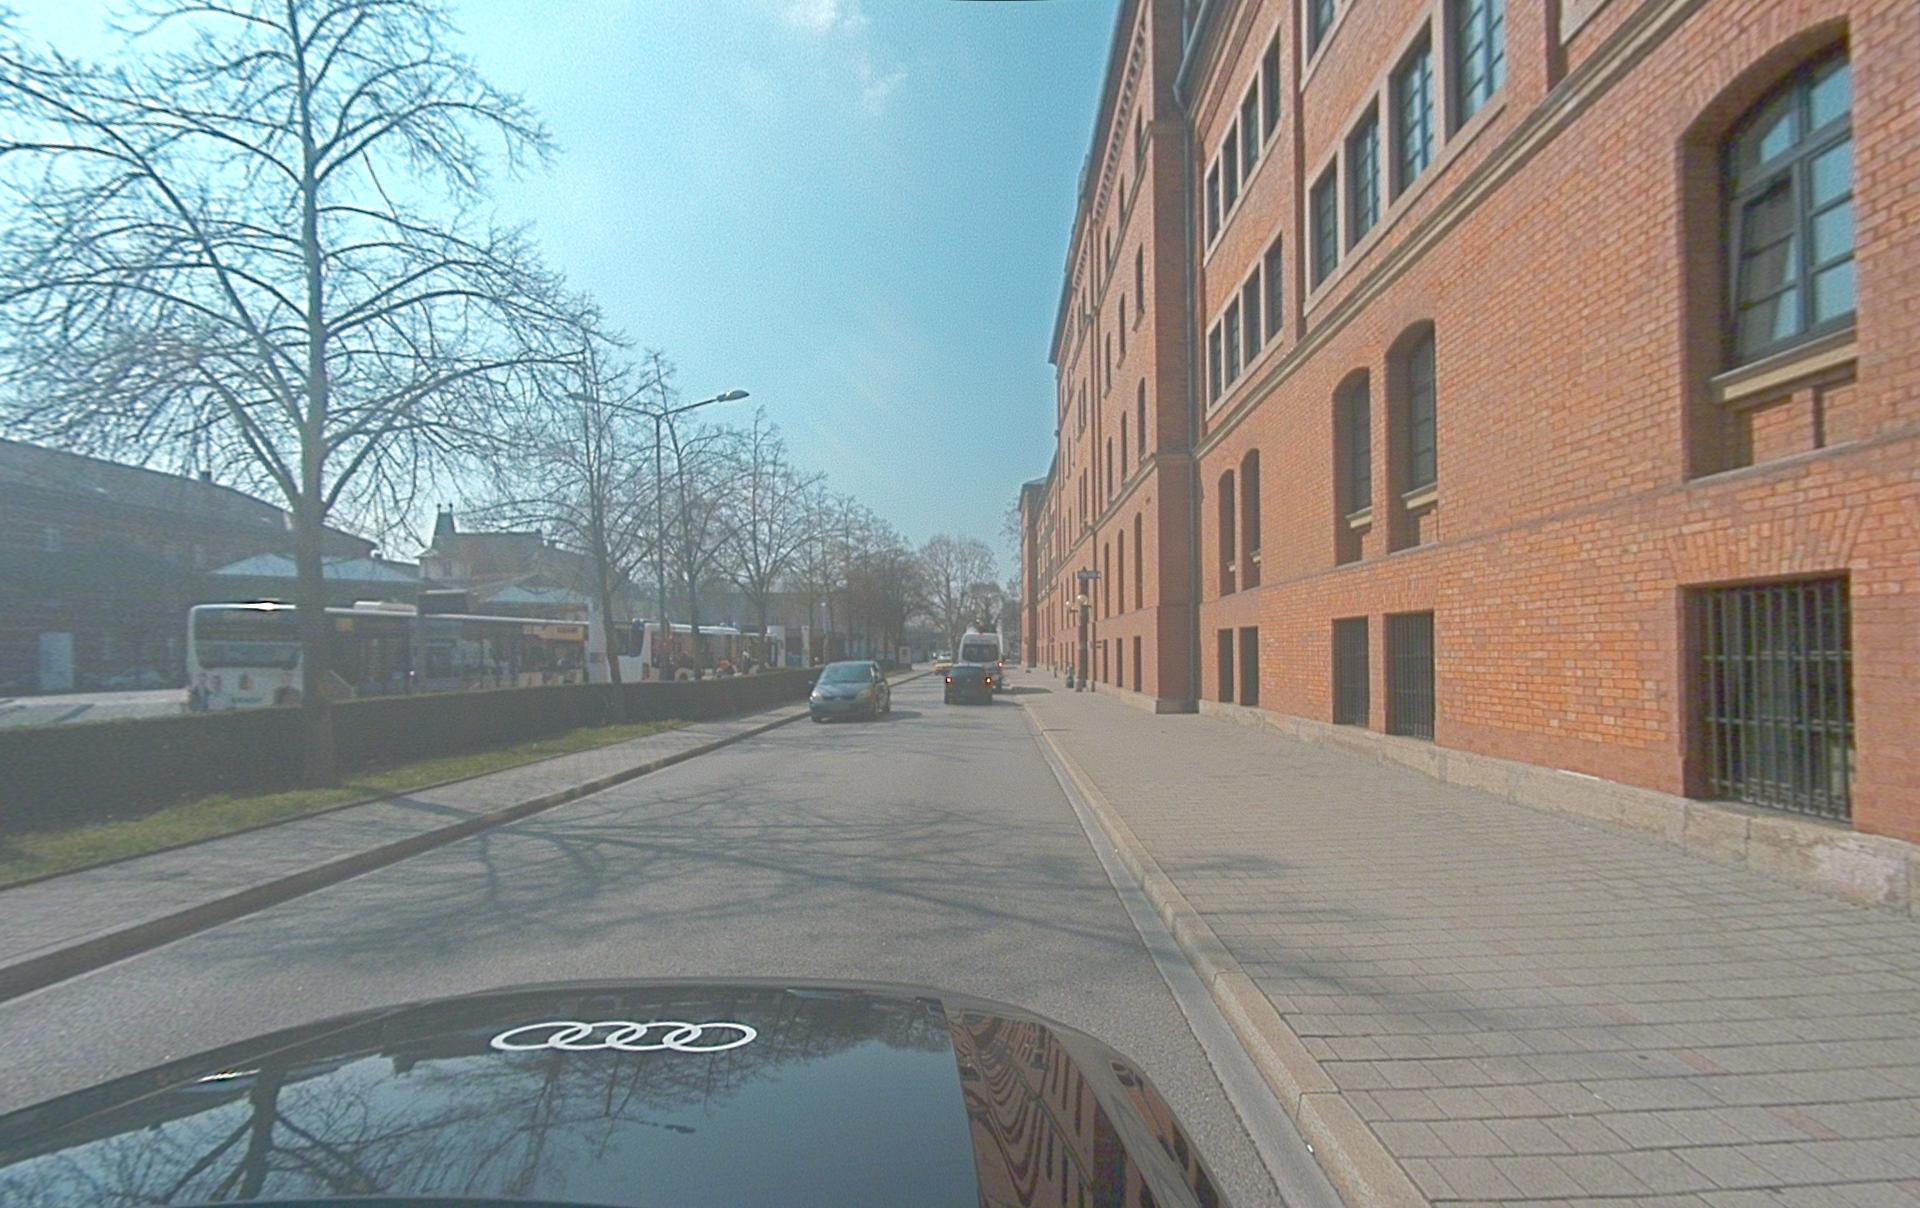car: (809, 660, 891, 722), (944, 662, 994, 705)
